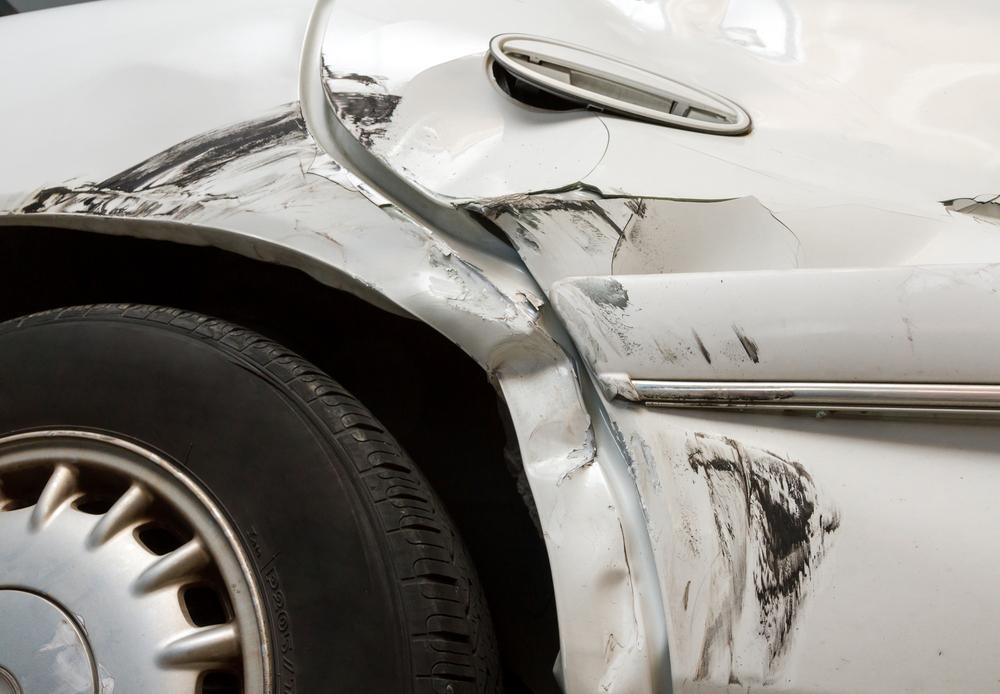crack: (933, 194, 1000, 210)
dent: (472, 182, 940, 283), (359, 51, 606, 199), (485, 329, 604, 488)
scratch: (13, 96, 519, 325), (655, 421, 842, 693), (552, 273, 760, 367), (319, 52, 391, 130)
